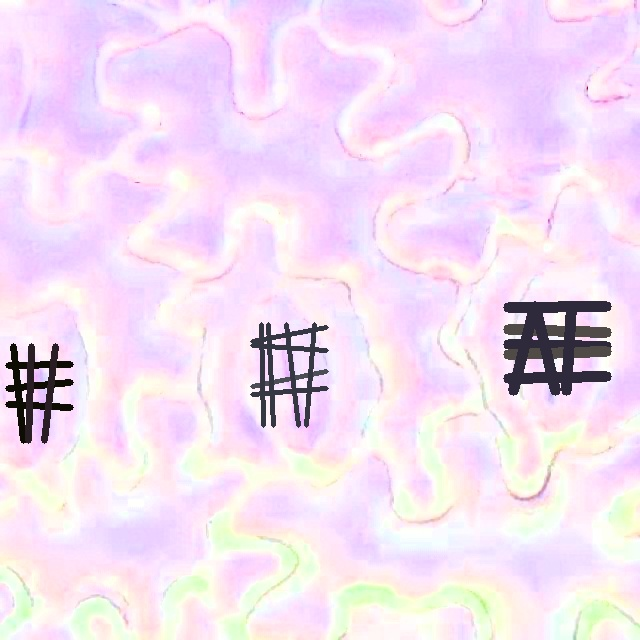close: (5, 343, 72, 442)
open: (503, 301, 611, 394), (250, 322, 328, 427)
